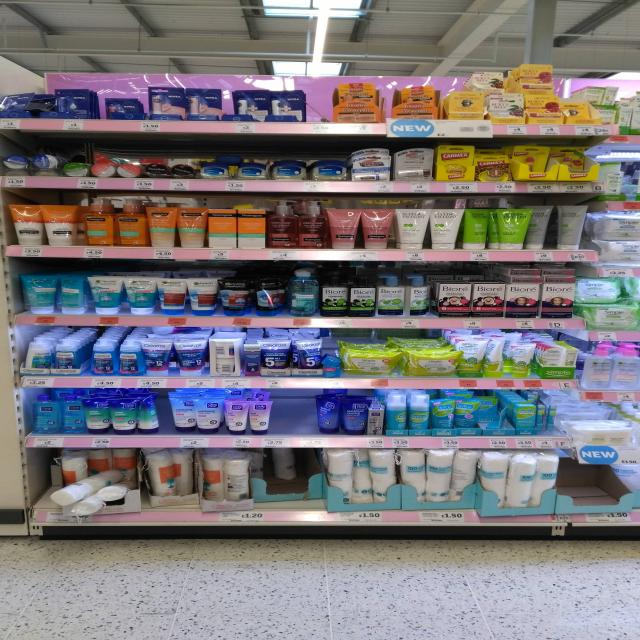void: (572, 462, 616, 506), (282, 399, 313, 434), (308, 86, 332, 120)
